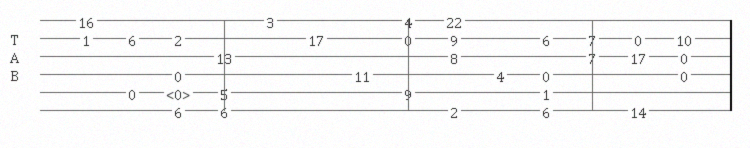0: (128, 85, 140, 99), (174, 67, 186, 81), (404, 31, 416, 45), (542, 67, 554, 81), (634, 31, 646, 45), (680, 49, 692, 63), (680, 67, 692, 81)
1: (82, 31, 94, 45), (542, 85, 554, 99)
10: (676, 31, 696, 45)
11: (354, 67, 374, 81)
13: (216, 49, 236, 63)
14: (630, 103, 650, 117)
16: (78, 13, 98, 27)
17: (308, 31, 328, 45), (630, 49, 650, 63)
2: (174, 31, 186, 45), (450, 103, 462, 117)
22: (446, 13, 466, 27)
3: (266, 13, 278, 27)
4: (404, 13, 416, 27), (496, 67, 508, 81)
5: (220, 85, 232, 100)
6: (128, 31, 140, 45), (174, 103, 186, 117), (220, 103, 232, 117), (542, 31, 554, 45), (542, 103, 554, 117)
7: (588, 31, 600, 45), (588, 49, 600, 63)
8: (450, 49, 462, 63)
9: (404, 85, 416, 99), (450, 31, 462, 45)
harmonic: (166, 85, 194, 99)
